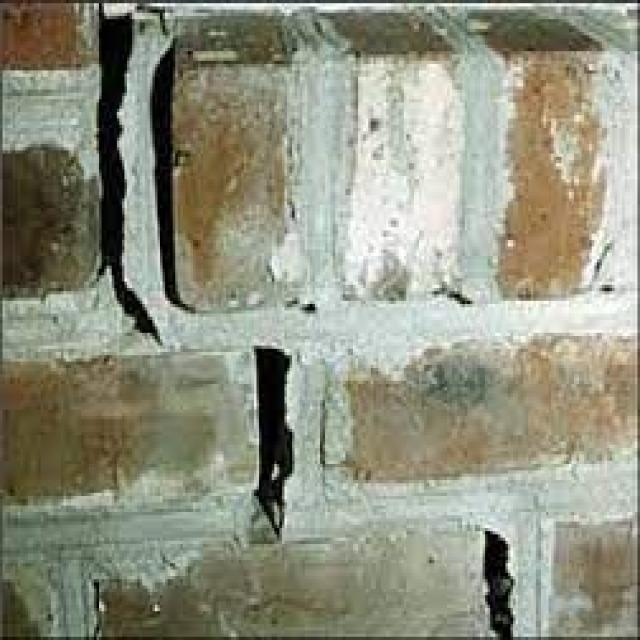Crack: (89, 0, 515, 637)
